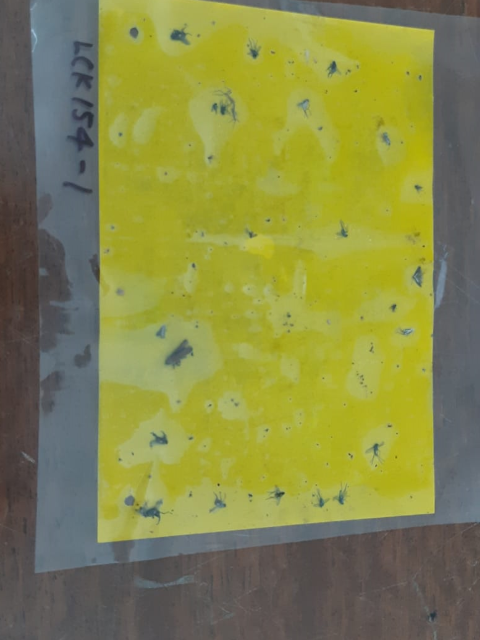DBM: (408, 263, 431, 288), (151, 320, 169, 340), (394, 324, 418, 339), (379, 129, 393, 152)
